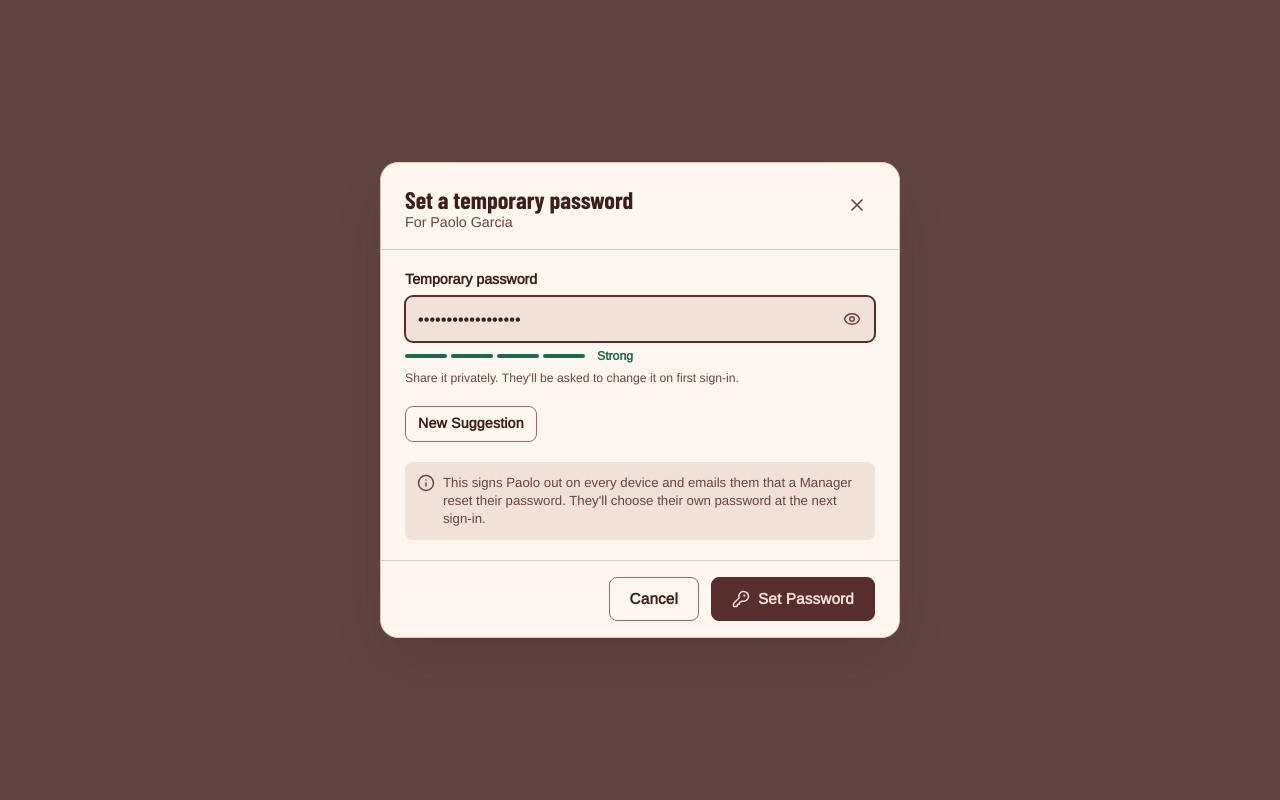
TemporaryPasswordDialog set step › keeps the dialog open with an alert line for any other failure, and a retry sends the same key
Click the button "Set Password".
click(793, 599)  # box [711,577,875,621]
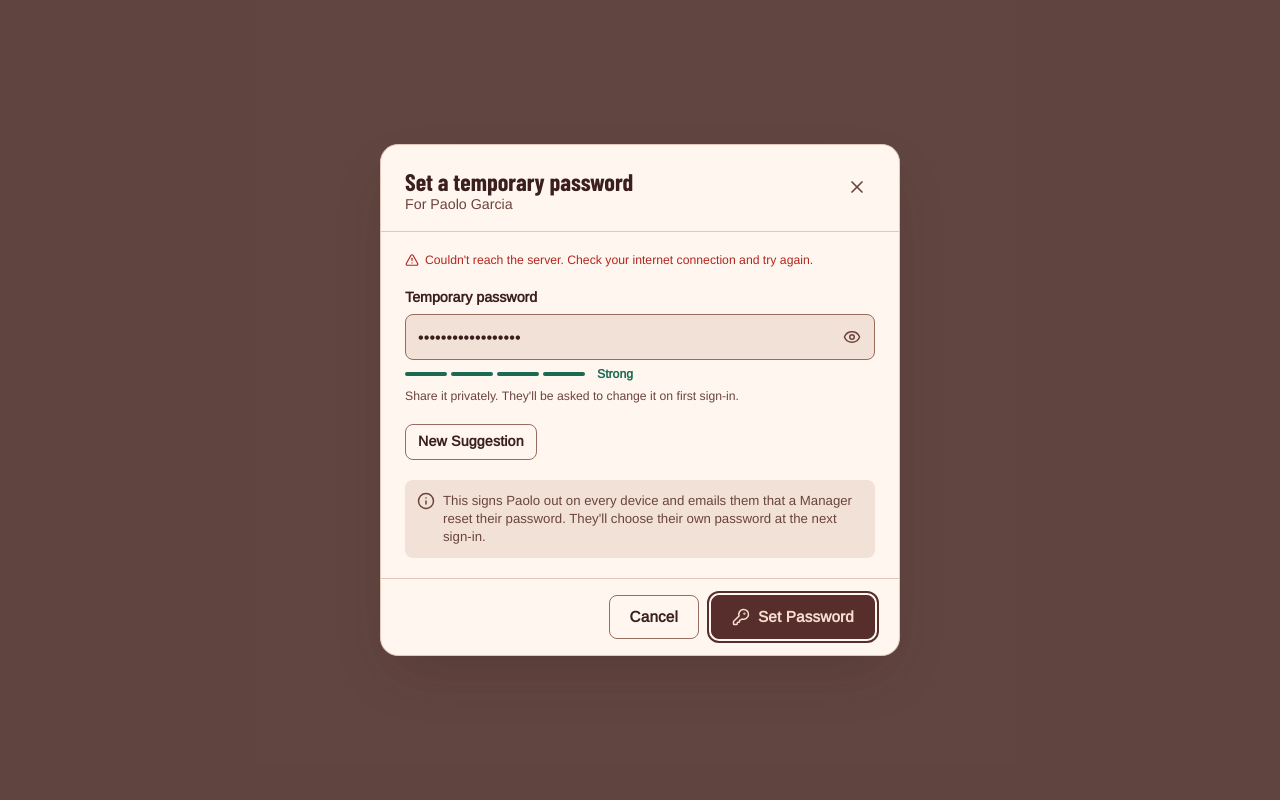
Expected: the message reads "Couldn't reach the server. Check your internet connection and try again.", [425,253,813,267]
Click the button "Set Password".
click(793, 617)  # box [711,595,875,639]
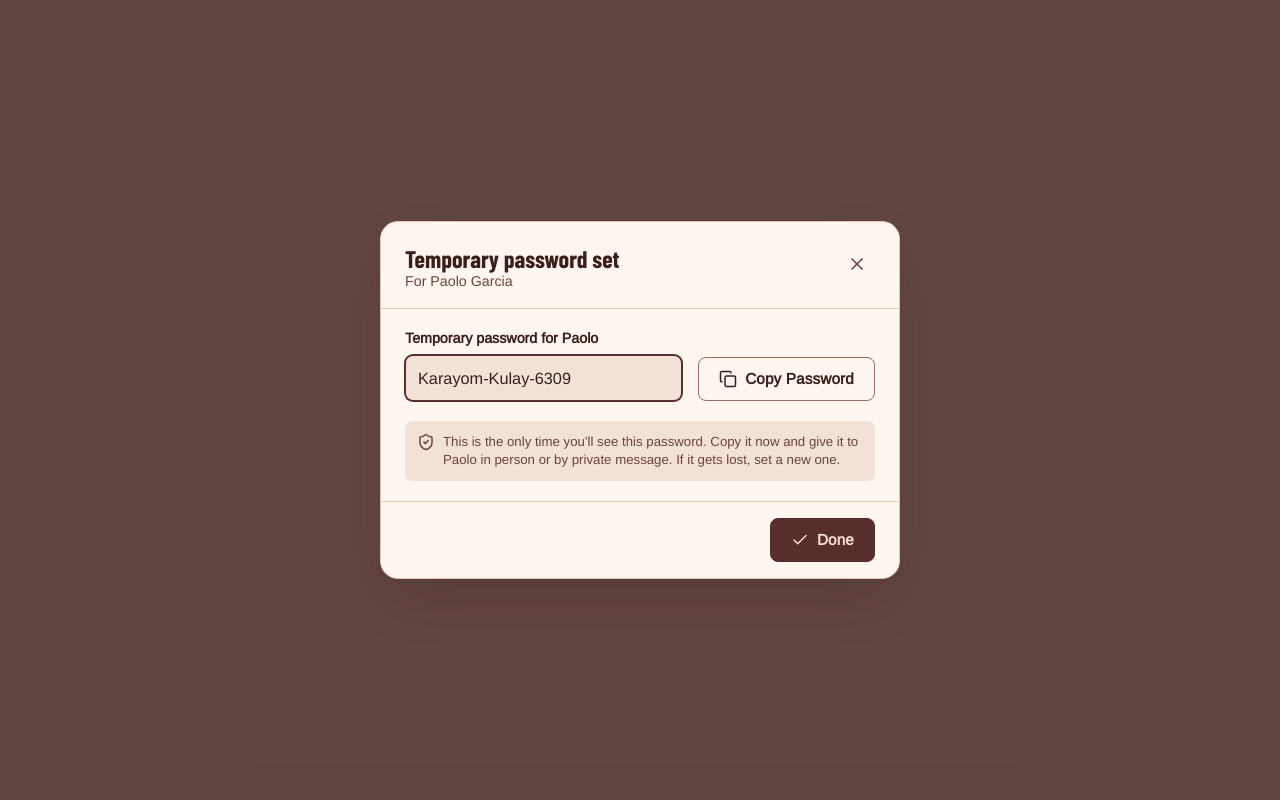
Expected: the dialog "Temporary password set" is shown, [380,221,900,579]
